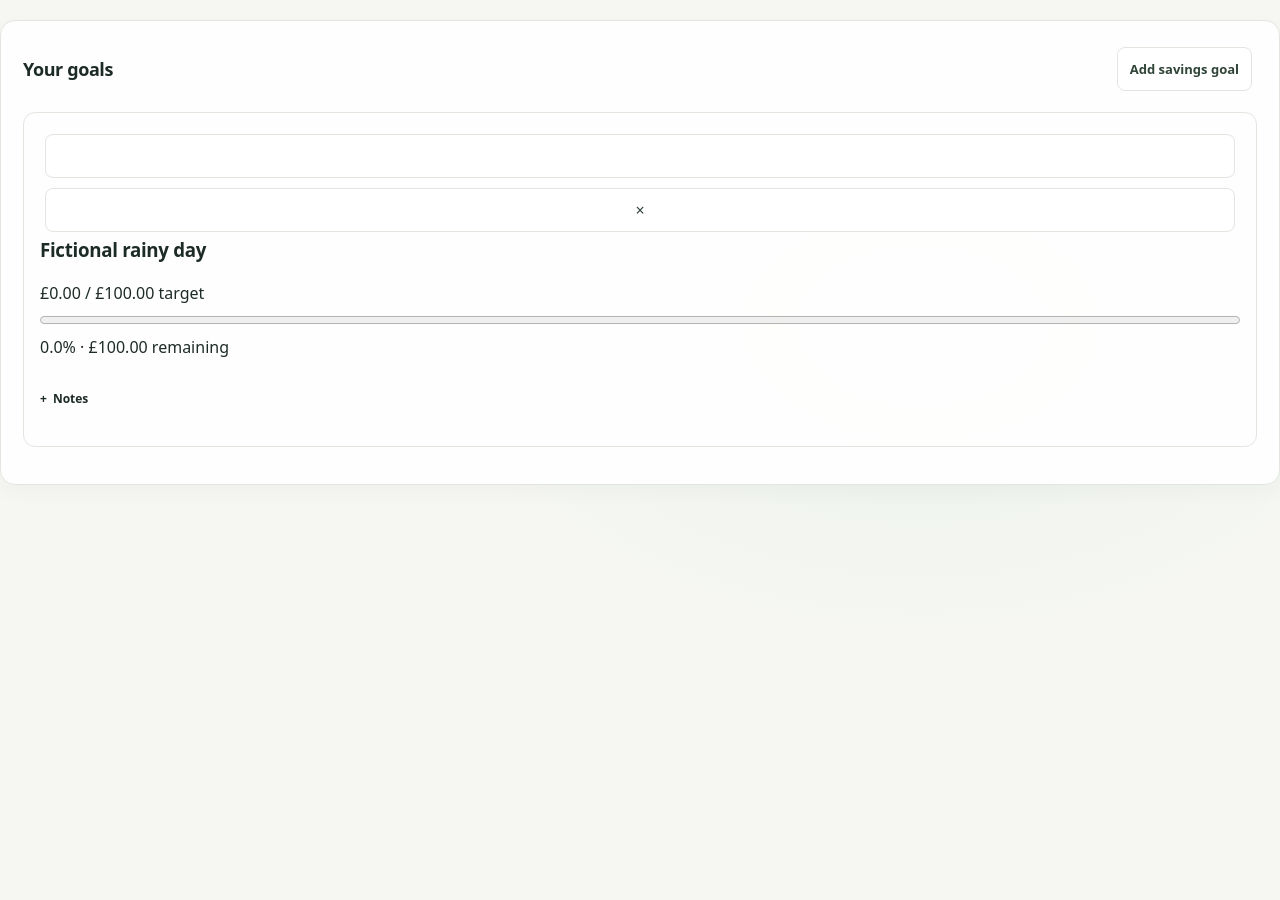
savings goals › rejects negative progress without inferring a replacement from transactions
The image size is (1280, 900).
Click the button named "Edit goal Fictional rainy day". click: (640, 156)
box: top-left (45, 134), bottom-right (1235, 178)
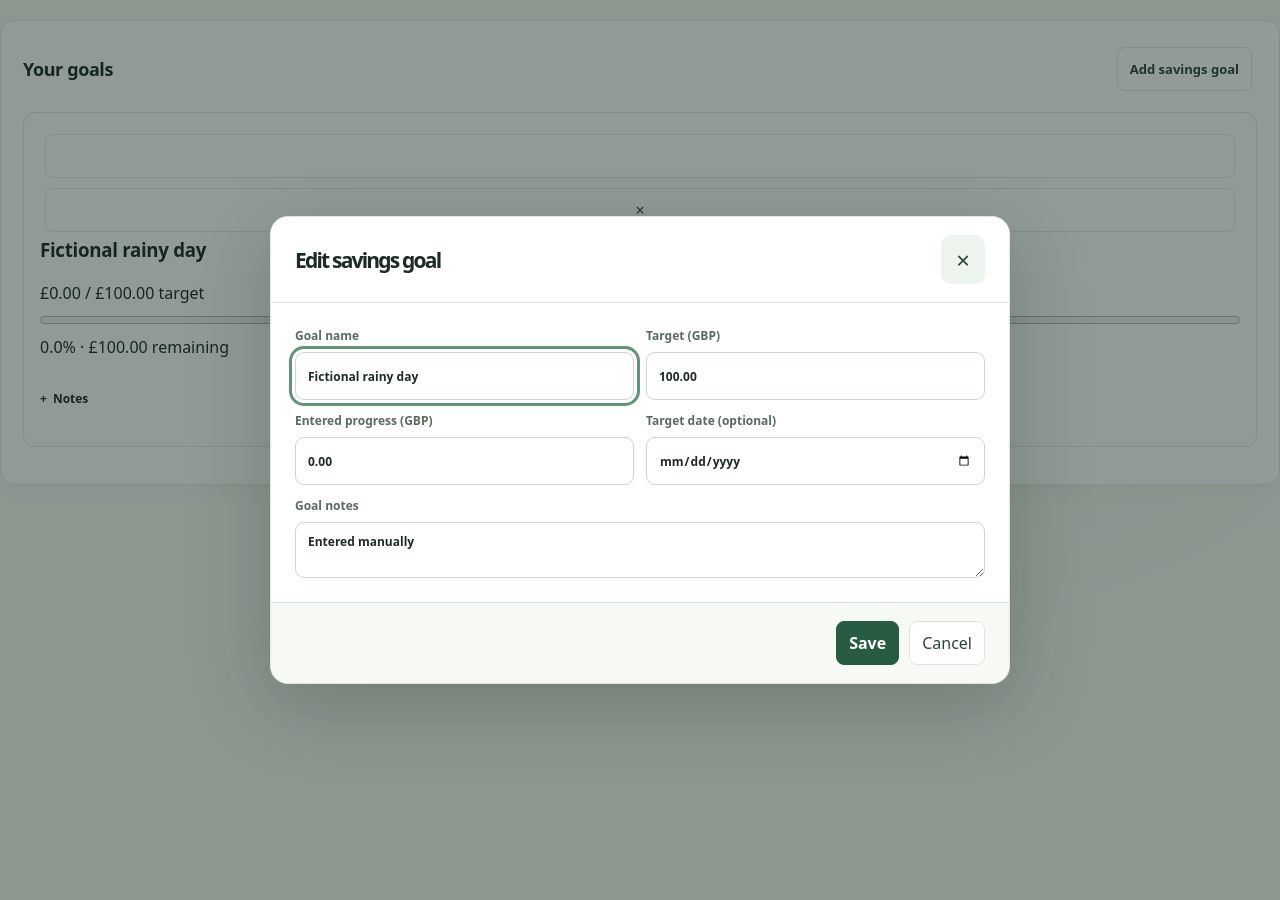
Replace the text in the field labelled "Entered progress (GBP)" with "-0.01". click: (464, 461)
box: top-left (295, 437), bottom-right (634, 485)
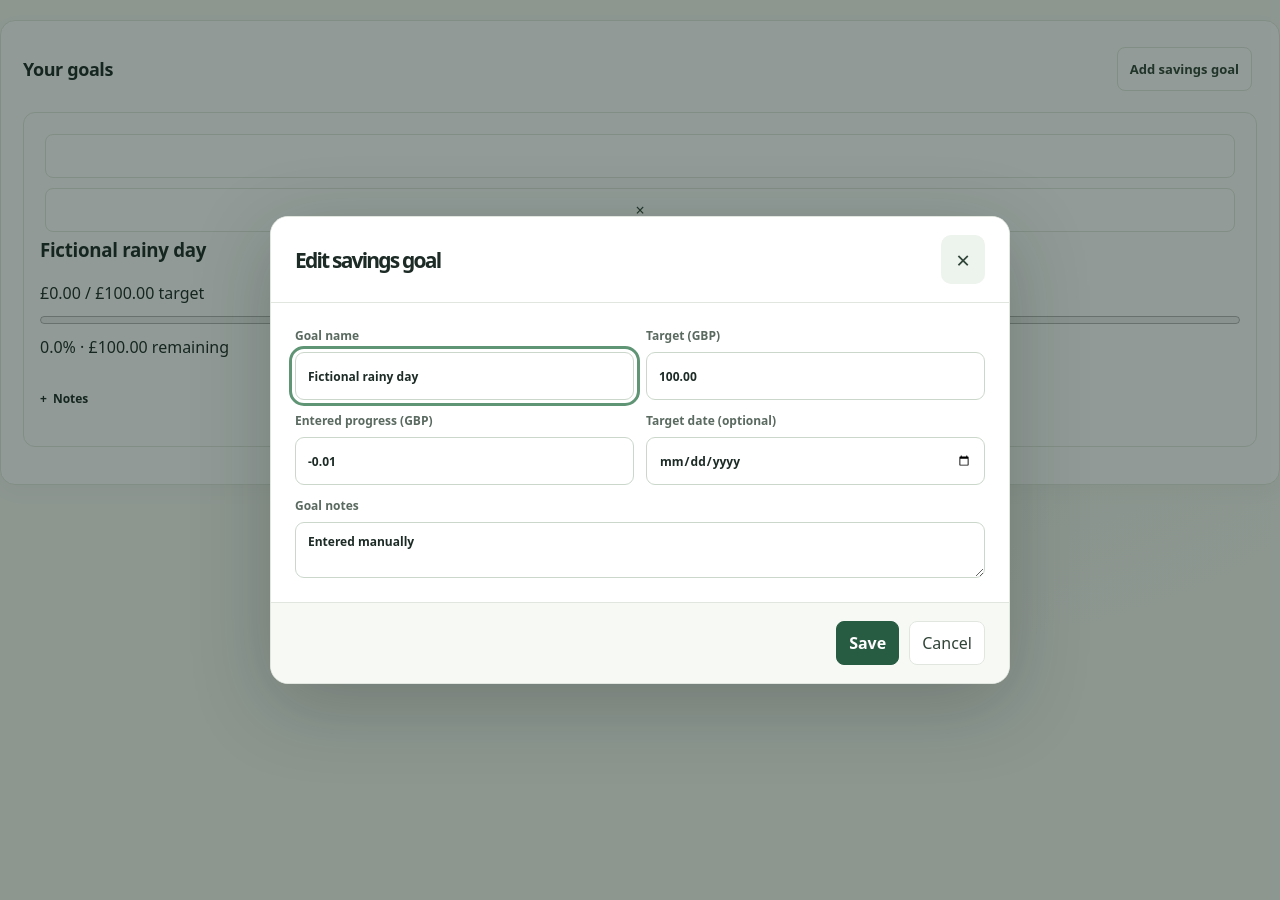
Click the button with aria-label "Save savings goal". click: (868, 643)
box: top-left (836, 621), bottom-right (899, 665)
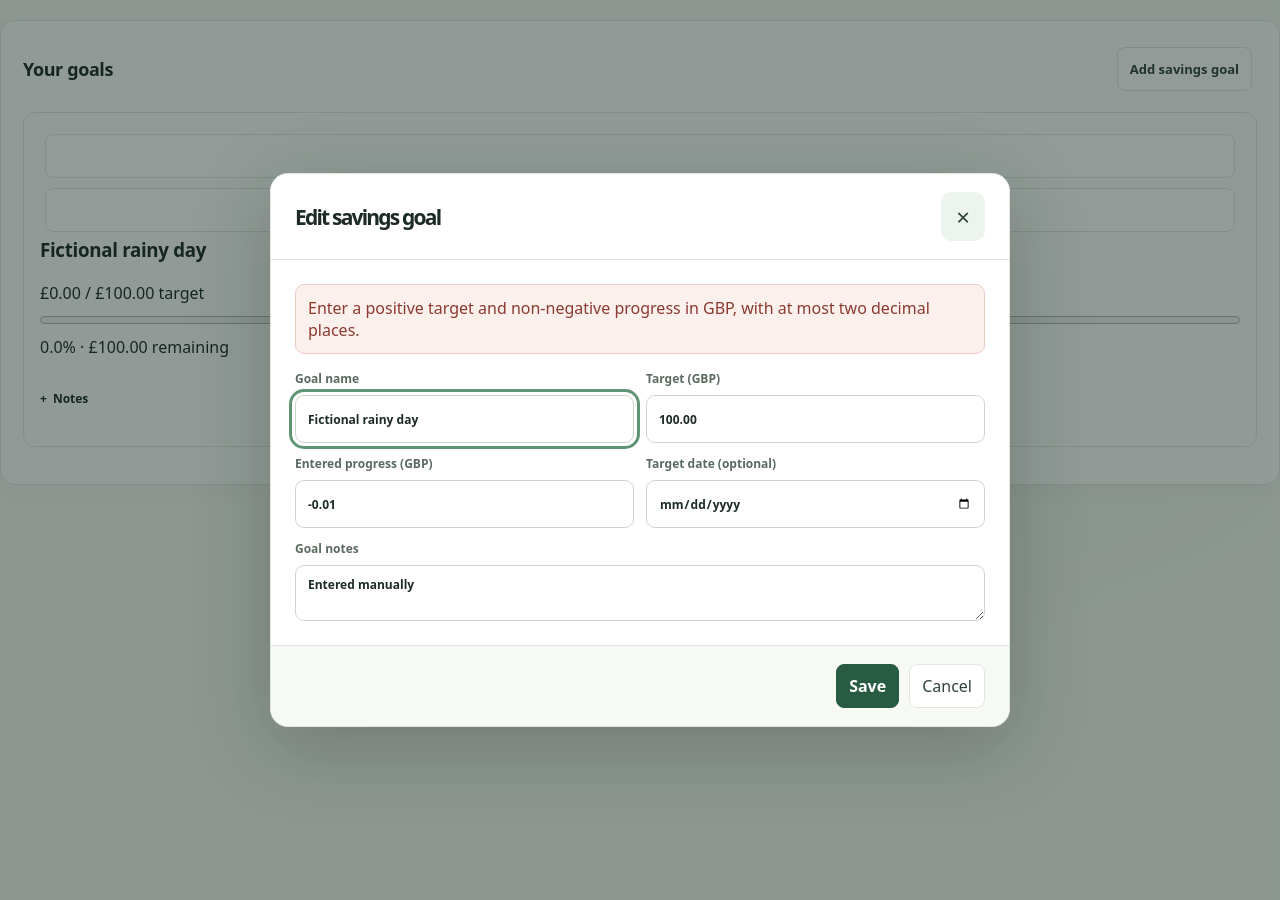
Result: the message shows "non-negative progress" at top-left (308, 297), bottom-right (930, 341)
